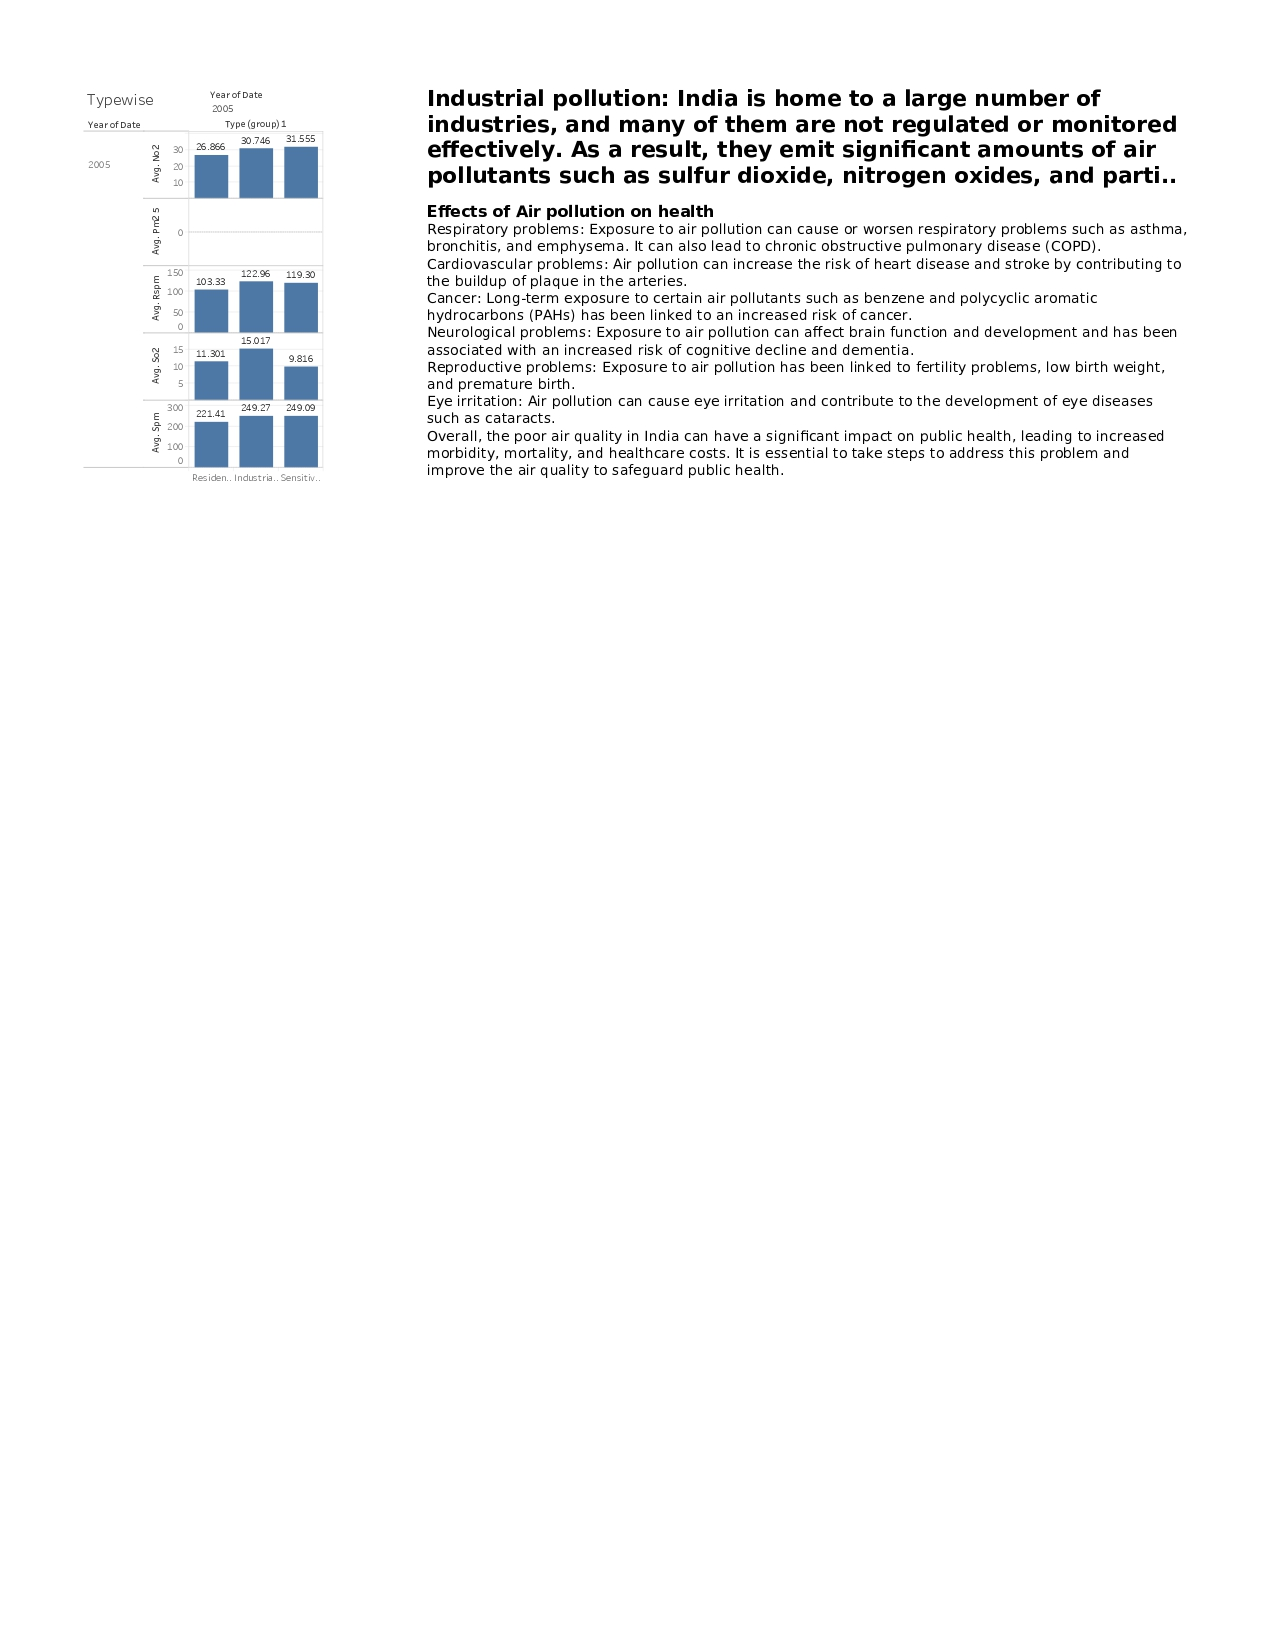

Layout of this report page (visuals, bound fields, positions):
{"tool":"tableau","page":{"name":"Dashboard 3","canvas":[1000,1000],"units":"permille","ordinal":0},"visuals":[{"type":"worksheet","title":"Typewise ","mark":"Bar","rows":["date","no2","pm2_5","rspm","so2","spm"],"box":[6.1,14.1,302.4,971.7]},{"type":"text","box":[308.4,14.1,685.5,268.6]},{"type":"filter","title":"Typewise ","param":"[federated.1sf80ue0t62omh1cit8ws1le459c].[yr:date:ok]","box":[120.3,28.3,128,91.9]},{"type":"text","box":[308.4,282.7,685.5,703.2]}]}

Visuals, with their boxes on the dashboard's canvas, which has no fixed pixel size, in thousandths of its width and height (x1, y1, x2, y2). These are canvas units, not pixel positions in the 1275x1650 screenshot, which may show the page scaled, cropped or inside an application window:
"Typewise " worksheet (Bar marks): (6, 14, 308, 986)
text: (308, 14, 994, 283)
"Typewise " filter: (120, 28, 248, 120)
text: (308, 283, 994, 986)
